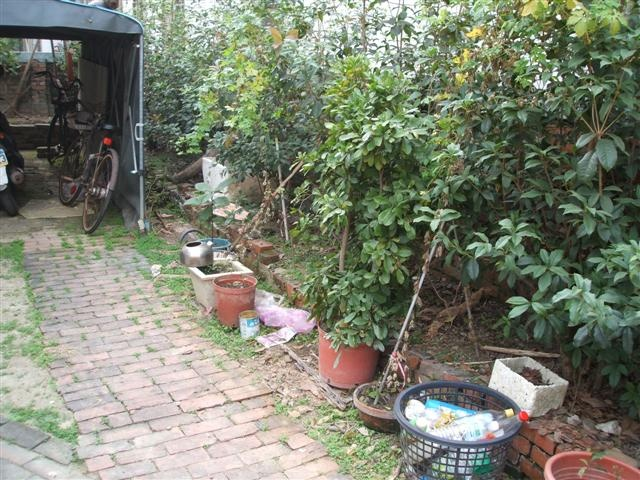bottle: (406, 419, 500, 462), (446, 406, 515, 424), (237, 308, 261, 339)
bowl: (181, 240, 213, 268)
bucket: (213, 274, 259, 327)
plastic_bag: (263, 305, 315, 333)
styrofoam: (487, 355, 570, 418)
